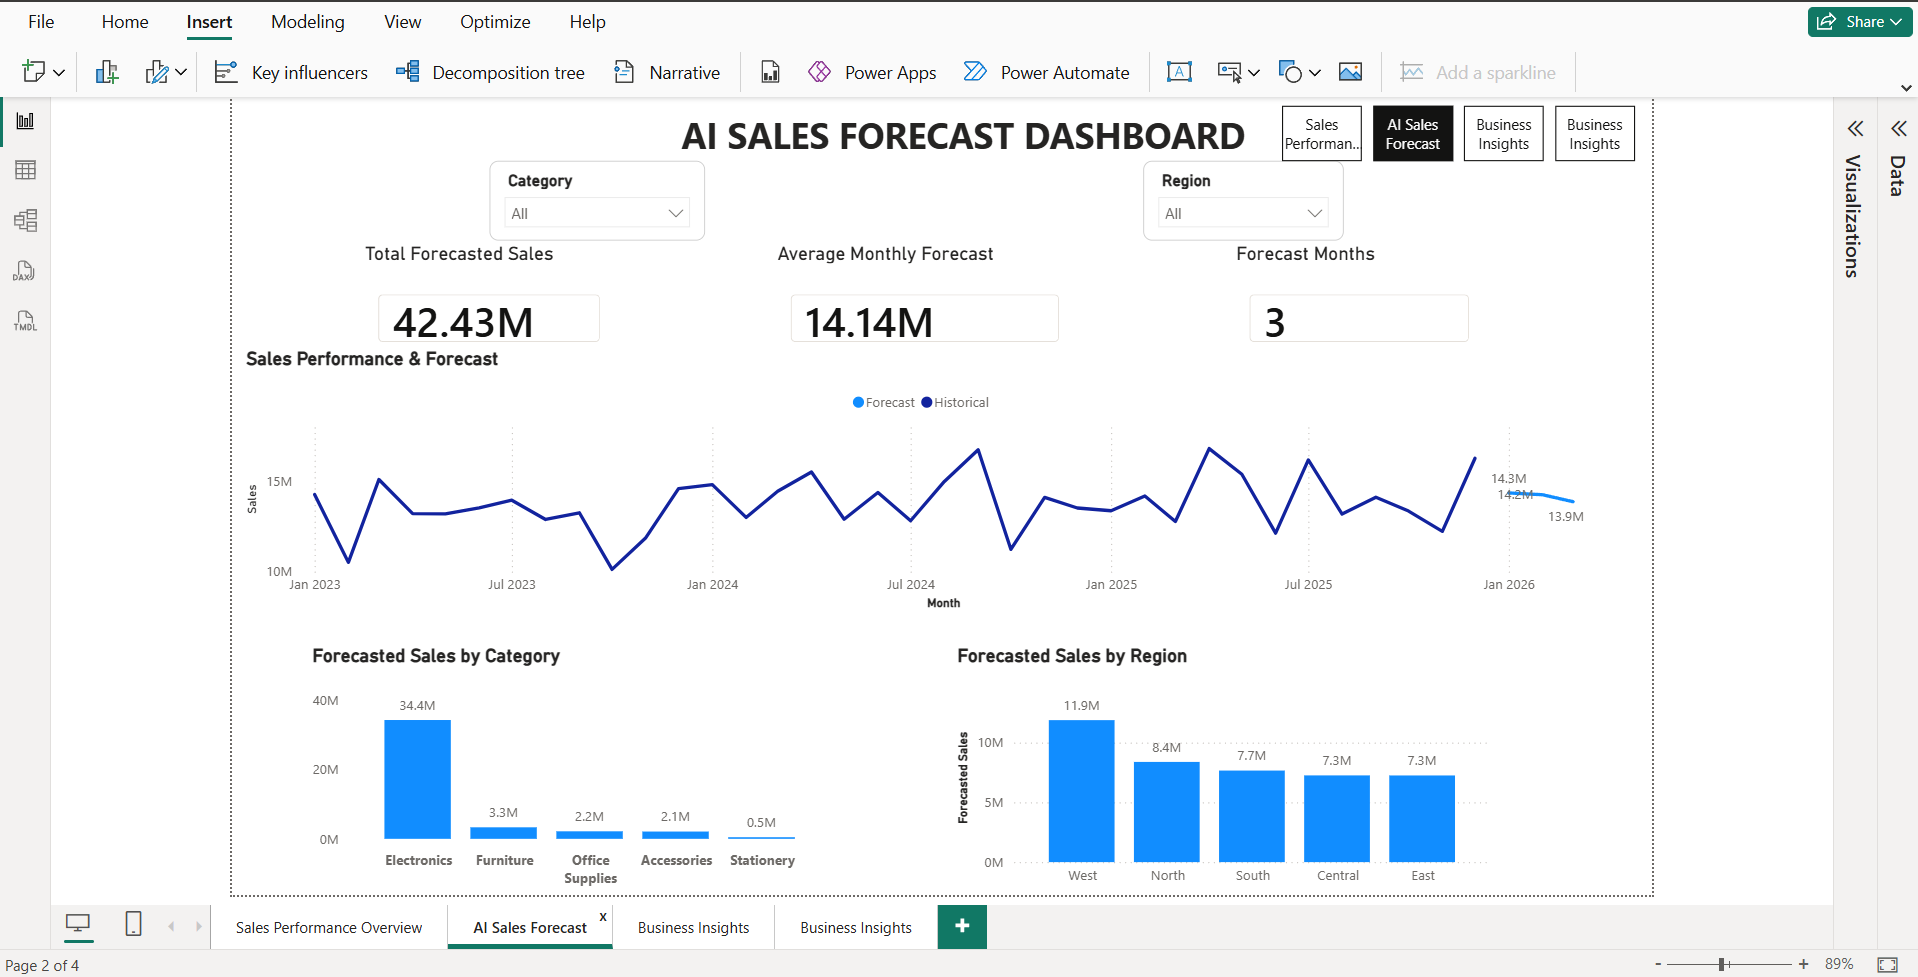

This screenshot's page, from the dashboard's own definition file:
{"tool":"powerbi","page":{"name":"AI Sales Forecast","canvas":[1280,720],"ordinal":1},"visuals":[{"type":"clusteredColumnChart","title":"Forecasted Sales by Category","fields":{"Category":["Category Forecast.Category"],"Y":["Sum(future_sales_forecast.Predicted_Sales)"]},"box":[67.3,494,478.1,226.2],"z":0},{"type":"clusteredColumnChart","title":"Forecasted Sales by Region","fields":{"Category":["Region Forecast.Region"],"Y":["Sum(Region Forecast.Predicted_Sales)"]},"box":[649.3,493.8,491.6,226.2],"z":1000},{"type":"cardVisual","title":"Total Forecasted Sales","fields":{"Data":["Sum(future_sales_forecast.Predicted_Sales)"]},"box":[114.9,130.8,234.8,107.6],"z":2000},{"type":"cardVisual","title":"Average Monthly Forecast","fields":{"Data":["future_sales_forecast.Average Monthly Forecast"]},"box":[486.7,130.8,276.4,107.6],"z":3000},{"type":"cardVisual","title":"Forecast Months","fields":{"Data":["Count(future_sales_forecast.Month_Date)"]},"box":[900,130.8,232.3,107.6],"z":4000},{"type":"textbox","box":[399.9,7.3,529.7,60.4],"z":5000},{"type":"lineChart","title":"Sales Performance & Forecast","fields":{"Y":["Sum(Combined_Sales_Forecast.Sales_Value)"],"Series":["Combined_Sales_Forecast.Data_Type"],"Category":["Combined_Sales_Forecast.Month_Date"]},"box":[8.1,225.7,1230.6,241.8],"z":6000},{"type":"slicer","fields":{"Values":["Dim_Category.Category"]},"box":[232.3,57.5,194.4,72.1],"z":7000},{"type":"slicer","fields":{"Values":["Dim_Region.Region"]},"box":[821.7,57.5,181,72.1],"z":8000},{"type":"pageNavigator","box":[946.5,7.3,319.2,50.1],"z":9000}]}

Visuals, with their boxes on the page's 1280x720 design canvas (x1, y1, x2, y2). These are canvas units, not pixel positions in the 1918x977 screenshot, which may show the page scaled, cropped or inside an application window:
"Forecasted Sales by Category" clusteredColumnChart: rect(67, 494, 545, 720)
"Forecasted Sales by Region" clusteredColumnChart: rect(649, 494, 1141, 720)
"Total Forecasted Sales" cardVisual: rect(115, 131, 350, 238)
"Average Monthly Forecast" cardVisual: rect(487, 131, 763, 238)
"Forecast Months" cardVisual: rect(900, 131, 1132, 238)
textbox: rect(400, 7, 930, 68)
"Sales Performance & Forecast" lineChart: rect(8, 226, 1239, 468)
slicer - Dim_Category.Category: rect(232, 58, 427, 130)
slicer - Dim_Region.Region: rect(822, 58, 1003, 130)
pageNavigator: rect(946, 7, 1266, 57)
